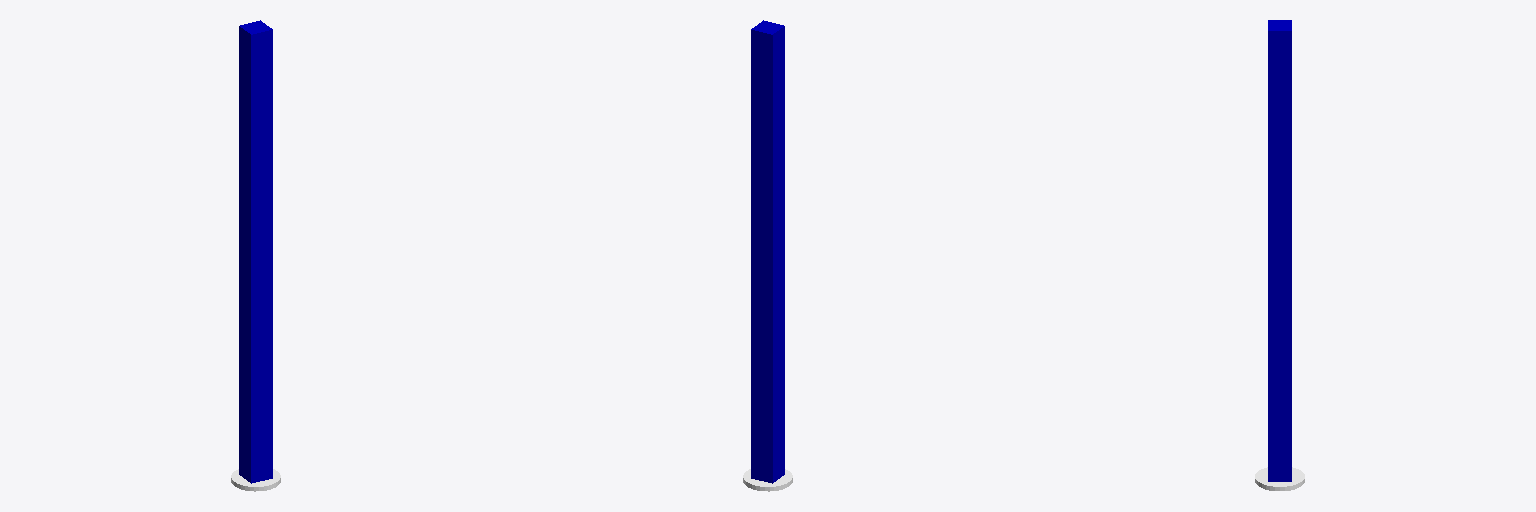
robot.urdf — spatial_14dof:
<?xml version="1.0" ?>
<robot name="spatial_14dof" xmlns:xacro="http://ros.org/wiki/xacro">
    <gazebo>
        <plugin filename="libgazebo_ros_control.so" name="ros_control" />
        <plugin name="gazebo_ros_control" filename="libgazebo_ros_control.so">
            <robotNamespace>/</robotNamespace>
        </plugin>
    </gazebo>
    <link name="base_link">
        <visual>
            <origin xyz="0 0 0" rpy="0 0 0" />
            <geometry>
                <cylinder length="0.01" radius="0.05" />
            </geometry>
            <material name="White">
                <color rgba="1.0 1.0 1.0 1.0" />
            </material>
        </visual>
    </link>
    <link name="link1">
        <visual>
            <origin xyz="0 0 0.05" rpy="0 0 0" />
            <geometry>
                <box size="0.05 0.05 0.1"/>
            </geometry>
            <material name="Blue">
                <color rgba="0.0 0.0 0.8 1.0" />
            </material>
        </visual>
        <collision>
            <origin xyz="0 0 0.05" rpy="0 0 0" />
            <geometry>
                <box size="0.05 0.05 0.1"/>
            </geometry>
        </collision>
        <inertial>
            <mass value="0.1" />
            <origin xyz="0 0 0" rpy="0 0 0" />
            <inertia ixx="0.03" iyy="0.03" izz="0.03" ixy="0.0" ixz="0.0" iyz="0.0" />
        </inertial>
    </link>
    <link name="link2">
        <visual>
            <origin xyz="0 0 0.0346" rpy="0 0 0" />
            <geometry>
                <box size="0.05 0.05 0.0692"/>
            </geometry>
            <material name="Blue">
                <color rgba="0.0 0.0 0.8 1.0" />
            </material>
        </visual>
        <collision>
            <origin xyz="0 0 0.0346" rpy="0 0 0" />
            <geometry>
                <box size="0.05 0.05 0.0692"/>
            </geometry>
        </collision>
        <inertial>
            <mass value="0.1" />
            <origin xyz="0 0 0" rpy="0 0 0" />
            <inertia ixx="0.03" iyy="0.03" izz="0.03" ixy="0.0" ixz="0.0" iyz="0.0" />
        </inertial>
    </link>
    <link name="link3">
        <visual>
            <origin xyz="0 0 0.0346" rpy="0 0 0" />
            <geometry>
                <box size="0.05 0.05 0.0692"/>
            </geometry>
            <material name="Blue">
                <color rgba="0.0 0.0 0.8 1.0" />
            </material>
        </visual>
        <collision>
            <origin xyz="0 0 0.0346" rpy="0 0 0" />
            <geometry>
                <box size="0.05 0.05 0.0692"/>
            </geometry>
        </collision>
        <inertial>
            <mass value="0.1" />
            <origin xyz="0 0 0" rpy="0 0 0" />
            <inertia ixx="0.03" iyy="0.03" izz="0.03" ixy="0.0" ixz="0.0" iyz="0.0" />
        </inertial>
    </link>
    <link name="link4">
        <visual>
            <origin xyz="0 0 0.0346" rpy="0 0 0" />
            <geometry>
                <box size="0.05 0.05 0.0692"/>
            </geometry>
            <material name="Blue">
                <color rgba="0.0 0.0 0.8 1.0" />
            </material>
        </visual>
        <collision>
            <origin xyz="0 0 0.0346" rpy="0 0 0" />
            <geometry>
                <box size="0.05 0.05 0.0692"/>
            </geometry>
        </collision>
        <inertial>
            <mass value="0.1" />
            <origin xyz="0 0 0" rpy="0 0 0" />
            <inertia ixx="0.03" iyy="0.03" izz="0.03" ixy="0.0" ixz="0.0" iyz="0.0" />
        </inertial>
    </link>
    <link name="link5">
        <visual>
            <origin xyz="0 0 0.0346" rpy="0 0 0" />
            <geometry>
                <box size="0.05 0.05 0.0692"/>
            </geometry>
            <material name="Blue">
                <color rgba="0.0 0.0 0.8 1.0" />
            </material>
        </visual>
        <collision>
            <origin xyz="0 0 0.0346" rpy="0 0 0" />
            <geometry>
                <box size="0.05 0.05 0.0692"/>
            </geometry>
        </collision>
        <inertial>
            <mass value="0.1" />
            <origin xyz="0 0 0" rpy="0 0 0" />
            <inertia ixx="0.03" iyy="0.03" izz="0.03" ixy="0.0" ixz="0.0" iyz="0.0" />
        </inertial>
    </link>
    <link name="link6">
        <visual>
            <origin xyz="0 0 0.0346" rpy="0 0 0" />
            <geometry>
                <box size="0.05 0.05 0.0692"/>
            </geometry>
            <material name="Blue">
                <color rgba="0.0 0.0 0.8 1.0" />
            </material>
        </visual>
        <collision>
            <origin xyz="0 0 0.0346" rpy="0 0 0" />
            <geometry>
                <box size="0.05 0.05 0.0692"/>
            </geometry>
        </collision>
        <inertial>
            <mass value="0.1" />
            <origin xyz="0 0 0" rpy="0 0 0" />
            <inertia ixx="0.03" iyy="0.03" izz="0.03" ixy="0.0" ixz="0.0" iyz="0.0" />
        </inertial>
    </link>
    <link name="link7">
        <visual>
            <origin xyz="0 0 0.0346" rpy="0 0 0" />
            <geometry>
                <box size="0.05 0.05 0.0692"/>
            </geometry>
            <material name="Blue">
                <color rgba="0.0 0.0 0.8 1.0" />
            </material>
        </visual>
        <collision>
            <origin xyz="0 0 0.0346" rpy="0 0 0" />
            <geometry>
                <box size="0.05 0.05 0.0692"/>
            </geometry>
        </collision>
        <inertial>
            <mass value="0.1" />
            <origin xyz="0 0 0" rpy="0 0 0" />
            <inertia ixx="0.03" iyy="0.03" izz="0.03" ixy="0.0" ixz="0.0" iyz="0.0" />
        </inertial>
    </link>
    <link name="link8">
        <visual>
            <origin xyz="0 0 0.0346" rpy="0 0 0" />
            <geometry>
                <box size="0.05 0.05 0.0692"/>
            </geometry>
            <material name="Blue">
                <color rgba="0.0 0.0 0.8 1.0" />
            </material>
        </visual>
        <collision>
            <origin xyz="0 0 0.0346" rpy="0 0 0" />
            <geometry>
                <box size="0.05 0.05 0.0692"/>
            </geometry>
        </collision>
        <inertial>
            <mass value="0.1" />
            <origin xyz="0 0 0" rpy="0 0 0" />
            <inertia ixx="0.03" iyy="0.03" izz="0.03" ixy="0.0" ixz="0.0" iyz="0.0" />
        </inertial>
    </link>
    <link name="link9">
        <visual>
            <origin xyz="0 0 0.0346" rpy="0 0 0" />
            <geometry>
                <box size="0.05 0.05 0.0692"/>
            </geometry>
            <material name="Blue">
                <color rgba="0.0 0.0 0.8 1.0" />
            </material>
        </visual>
        <collision>
            <origin xyz="0 0 0.0346" rpy="0 0 0" />
            <geometry>
                <box size="0.05 0.05 0.0692"/>
            </geometry>
        </collision>
        <inertial>
            <mass value="0.1" />
            <origin xyz="0 0 0" rpy="0 0 0" />
            <inertia ixx="0.03" iyy="0.03" izz="0.03" ixy="0.0" ixz="0.0" iyz="0.0" />
        </inertial>
    </link>
    <link name="link10">
        <visual>
            <origin xyz="0 0 0.0346" rpy="0 0 0" />
            <geometry>
                <box size="0.05 0.05 0.0692"/>
            </geometry>
            <material name="Blue">
                <color rgba="0.0 0.0 0.8 1.0" />
            </material>
        </visual>
        <collision>
            <origin xyz="0 0 0.0346" rpy="0 0 0" />
            <geometry>
                <box size="0.05 0.05 0.0692"/>
            </geometry>
        </collision>
        <inertial>
            <mass value="0.1" />
            <origin xyz="0 0 0" rpy="0 0 0" />
            <inertia ixx="0.03" iyy="0.03" izz="0.03" ixy="0.0" ixz="0.0" iyz="0.0" />
        </inertial>
    </link>
    <link name="link11">
        <visual>
            <origin xyz="0 0 0.0346" rpy="0 0 0" />
            <geometry>
                <box size="0.05 0.05 0.0692"/>
            </geometry>
            <material name="Blue">
                <color rgba="0.0 0.0 0.8 1.0" />
            </material>
        </visual>
        <collision>
            <origin xyz="0 0 0.0346" rpy="0 0 0" />
            <geometry>
                <box size="0.05 0.05 0.0692"/>
            </geometry>
        </collision>
        <inertial>
            <mass value="0.1" />
            <origin xyz="0 0 0" rpy="0 0 0" />
            <inertia ixx="0.03" iyy="0.03" izz="0.03" ixy="0.0" ixz="0.0" iyz="0.0" />
        </inertial>
    </link>
    <link name="link12">
        <visual>
            <origin xyz="0 0 0.0346" rpy="0 0 0" />
            <geometry>
                <box size="0.05 0.05 0.0692"/>
            </geometry>
            <material name="Blue">
                <color rgba="0.0 0.0 0.8 1.0" />
            </material>
        </visual>
        <collision>
            <origin xyz="0 0 0.0346" rpy="0 0 0" />
            <geometry>
                <box size="0.05 0.05 0.0692"/>
            </geometry>
        </collision>
        <inertial>
            <mass value="0.1" />
            <origin xyz="0 0 0" rpy="0 0 0" />
            <inertia ixx="0.03" iyy="0.03" izz="0.03" ixy="0.0" ixz="0.0" iyz="0.0" />
        </inertial>
    </link>
    <link name="link13">
        <visual>
            <origin xyz="0 0 0.0346" rpy="0 0 0" />
            <geometry>
                <box size="0.05 0.05 0.0692"/>
            </geometry>
            <material name="Blue">
                <color rgba="0.0 0.0 0.8 1.0" />
            </material>
        </visual>
        <collision>
            <origin xyz="0 0 0.0346" rpy="0 0 0" />
            <geometry>
                <box size="0.05 0.05 0.0692"/>
            </geometry>
        </collision>
        <inertial>
            <mass value="0.1" />
            <origin xyz="0 0 0" rpy="0 0 0" />
            <inertia ixx="0.03" iyy="0.03" izz="0.03" ixy="0.0" ixz="0.0" iyz="0.0" />
        </inertial>
    </link>
    <link name="link14">
        <visual>
            <origin xyz="0 0 0.0346" rpy="0 0 0" />
            <geometry>
                <box size="0.05 0.05 0.0692"/>
            </geometry>
            <material name="Blue">
                <color rgba="0.0 0.0 0.8 1.0" />
            </material>
        </visual>
        <collision>
            <origin xyz="0 0 0.0346" rpy="0 0 0" />
            <geometry>
                <box size="0.05 0.05 0.0692"/>
            </geometry>
        </collision>
        <inertial>
            <mass value="0.1" />
            <origin xyz="0 0 0" rpy="0 0 0" />
            <inertia ixx="0.03" iyy="0.03" izz="0.03" ixy="0.0" ixz="0.0" iyz="0.0" />
        </inertial>
    </link>
    <link name="tool" />

    <!-- Joints -->
    <joint name="joint1" type="revolute">
        <limit effort="30" velocity="3.14159" lower="-3.14159" upper="3.14159" />
        <parent link="base_link" />
        <child link="link1" />
        <origin xyz="0 0 0" rpy="0 0 0" />
        <axis xyz="0 0 1" />
    </joint>
    <joint name="joint2" type="revolute">
        <limit effort="30" velocity="3.14159" lower="-3.14159" upper="3.14159" />
        <parent link="link1" />
        <child link="link2" />
        <origin xyz="0 0 0.1" rpy="0 0 0" />
        <axis xyz="1 0 0" />
    </joint>
    <joint name="joint3" type="revolute">
        <limit effort="30" velocity="3.14159" lower="-3.14159" upper="3.14159" />
        <parent link="link2" />
        <child link="link3" />
        <origin xyz="0 0 0.0692" rpy="0 0 0" />
        <axis xyz="1 0 0" />
    </joint>
    <joint name="joint4" type="revolute">
        <limit effort="30" velocity="3.14159" lower="-3.14159" upper="3.14159" />
        <parent link="link3" />
        <child link="link4" />
        <origin xyz="0 0 0.0692" rpy="0 0 0" />
        <axis xyz="1 0 0" />
    </joint>
    <joint name="joint5" type="revolute">
        <limit effort="30" velocity="3.14159" lower="-3.14159" upper="3.14159" />
        <parent link="link4" />
        <child link="link5" />
        <origin xyz="0 0 0.0692" rpy="0 0 0" />
        <axis xyz="1 0 0" />
    </joint>
    <joint name="joint6" type="revolute">
        <limit effort="30" velocity="3.14159" lower="-3.14159" upper="3.14159" />
        <parent link="link5" />
        <child link="link6" />
        <origin xyz="0 0 0.0692" rpy="0 0 0" />
        <axis xyz="1 0 0" />
    </joint>
    <joint name="joint7" type="revolute">
        <limit effort="30" velocity="3.14159" lower="-3.14159" upper="3.14159" />
        <parent link="link6" />
        <child link="link7" />
        <origin xyz="0 0 0.0692" rpy="0 0 0" />
        <axis xyz="1 0 0" />
    </joint>
    <joint name="joint8" type="revolute">
        <limit effort="30" velocity="3.14159" lower="-3.14159" upper="3.14159" />
        <parent link="link7" />
        <child link="link8" />
        <origin xyz="0 0 0.0692" rpy="0 0 0" />
        <axis xyz="1 0 0" />
    </joint>
    <joint name="joint9" type="revolute">
        <limit effort="30" velocity="3.14159" lower="-3.14159" upper="3.14159" />
        <parent link="link8" />
        <child link="link9" />
        <origin xyz="0 0 0.0692" rpy="0 0 0" />
        <axis xyz="1 0 0" />
    </joint>
    <joint name="joint10" type="revolute">
        <limit effort="30" velocity="3.14159" lower="-3.14159" upper="3.14159" />
        <parent link="link9" />
        <child link="link10" />
        <origin xyz="0 0 0.0692" rpy="0 0 0" />
        <axis xyz="1 0 0" />
    </joint>
    <joint name="joint11" type="revolute">
        <limit effort="30" velocity="3.14159" lower="-3.14159" upper="3.14159" />
        <parent link="link10" />
        <child link="link11" />
        <origin xyz="0 0 0.0692" rpy="0 0 0" />
        <axis xyz="1 0 0" />
    </joint>
    <joint name="joint12" type="revolute">
        <limit effort="30" velocity="3.14159" lower="-3.14159" upper="3.14159" />
        <parent link="link11" />
        <child link="link12" />
        <origin xyz="0 0 0.0692" rpy="0 0 0" />
        <axis xyz="1 0 0" />
    </joint>
    <joint name="joint13" type="revolute">
        <limit effort="30" velocity="3.14159" lower="-3.14159" upper="3.14159" />
        <parent link="link12" />
        <child link="link13" />
        <origin xyz="0 0 0.0692" rpy="0 0 0" />
        <axis xyz="1 0 0" />
    </joint>
    <joint name="joint14" type="revolute">
        <limit effort="30" velocity="3.14159" lower="-3.14159" upper="3.14159" />
        <parent link="link13" />
        <child link="link14" />
        <origin xyz="0 0 0.0692" rpy="0 0 0" />
        <axis xyz="1 0 0" />
    </joint>
    <joint name="ee" type="fixed">
        <parent link="link14" />
        <child link="tool" />
        <limit effort="30" velocity="3.14159" lower="-6.28318" upper="6.28318" />
        <origin xyz="0 0 0.0692" rpy="0 0 0" />
        <axis xyz="0 0 1" />
    </joint>
</robot>

--- Facts derived from the render (not from the file) ---
Views: 3 orthographic renders of the robot side by side, from view 1: azimuth 30°, elevation 25°; view 2: azimuth 150°, elevation 25°; view 3: azimuth 270°, elevation 25°.
Robot: spatial_14dof — 16 links, 15 joints (14 revolute, 1 fixed); root link base_link; default pose: all joints at 0.
Visible links, largest first — view 1: link1, link14, link3, link12, link2, link4, link7, link9, link11, link13, link5, link6 (+3 smaller); view 2: link1, link14, link3, link12, link2, link4, link7, link9, link11, link13, link5, link6 (+3 smaller); view 3: link1, link14, link2, link5, link8, link10, link13, link3, link4, link6, link7, link9 (+3 smaller).
Boxes of the visible links, x1,y1,x2,y2 form: link1: (239,432,272,483); link14: (239,20,272,65); link3: (239,370,272,409); link12: (239,89,272,128); link2: (239,401,272,440); link4: (239,338,272,377); link7: (239,245,272,284); link9: (239,182,272,221); link11: (239,120,272,159); link13: (239,57,272,96); link5: (239,307,272,346); link6: (239,276,272,315); link1: (751,432,784,483); link14: (751,20,784,65); link3: (751,370,784,409); link12: (751,89,784,128); link2: (751,401,784,440); link4: (751,338,784,377); link7: (751,245,784,284); link9: (751,182,784,221); link11: (751,120,784,159); link13: (751,57,784,96); link5: (751,307,784,346); link6: (751,276,784,315); link1: (1268,439,1291,481); link14: (1268,20,1291,61); link2: (1268,407,1291,438); link5: (1268,313,1291,344); link8: (1268,219,1291,250); link10: (1268,156,1291,187); link13: (1268,62,1291,93); link3: (1268,376,1291,406); link4: (1268,345,1291,375); link6: (1268,282,1291,312); link7: (1268,251,1291,281); link9: (1268,188,1291,218).
Size in the robot's own frame: 0.1 by 0.1 by 1 metres.
Geometry: primitives only (box / cylinder / sphere), no mesh files.